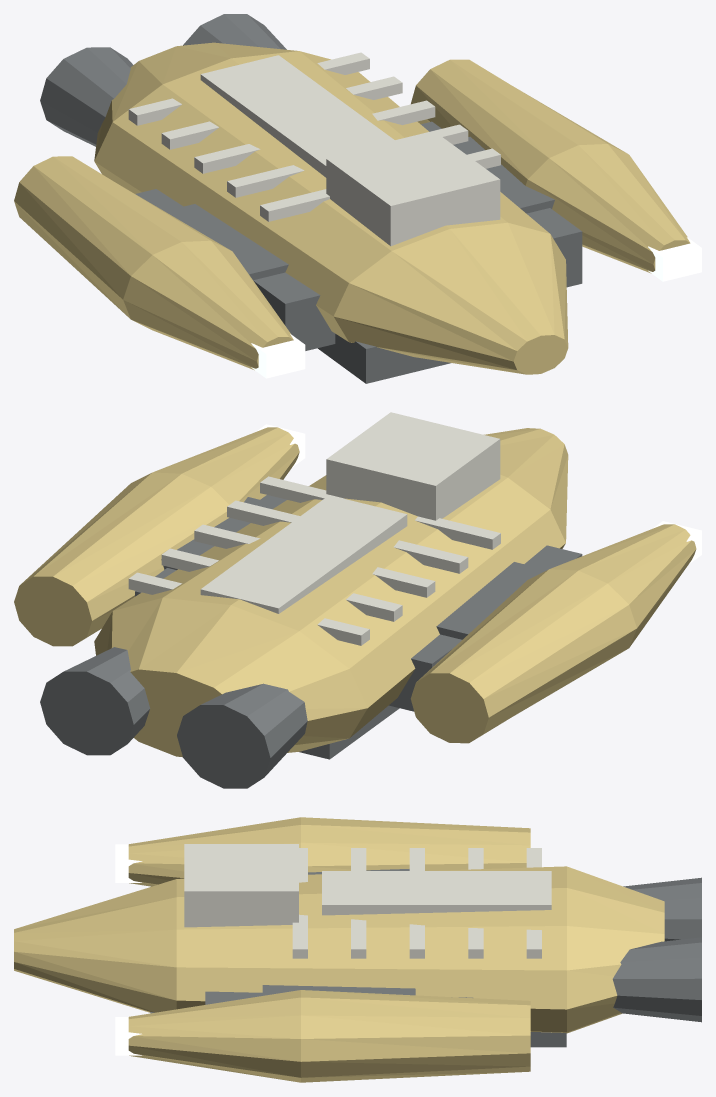
The picture shows the model from 3 angles, top to bottom: view 1: azimuth 30°, elevation 25°; view 2: azimuth 150°, elevation 25°; view 3: azimuth 270°, elevation 25°; orthographic projection. The views are drawn at different scales.
Bounding box in the file's own units: 5.31 × 1.6 × 6.9.
